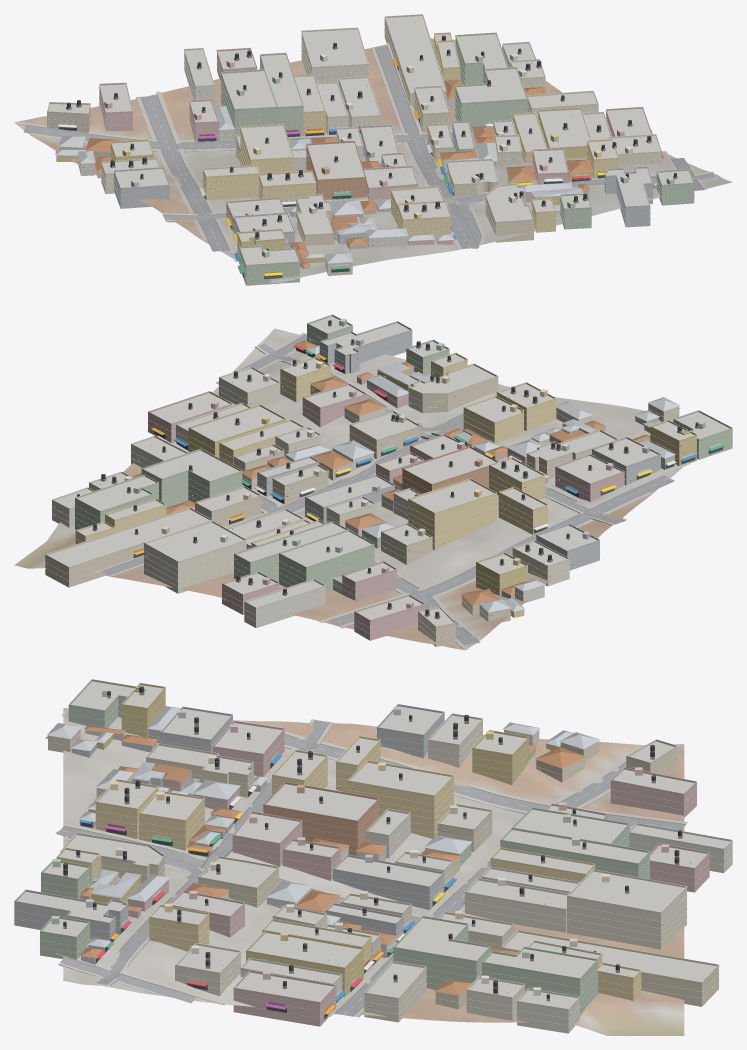
The picture shows the model from 3 angles, top to bottom: view 1: azimuth 30°, elevation 25°; view 2: azimuth 150°, elevation 25°; view 3: azimuth 270°, elevation 25°; orthographic projection. The views are drawn at different scales.
Visible parts, largest first — view 1: Buildings-col, Details, Terrain-col, Roads-col, Sidewalks-col; view 2: Buildings-col, Details, Terrain-col, Roads-col, Sidewalks-col; view 3: Buildings-col, Details, Terrain-col, Roads-col, Sidewalks-col.
Boxes of the visible parts, x1=… form: Buildings-col: x1=47, y1=16, x2=694, y2=285; Details: x1=47, y1=14, x2=694, y2=280; Terrain-col: x1=14, y1=38, x2=732, y2=284; Roads-col: x1=23, y1=46, x2=714, y2=251; Sidewalks-col: x1=18, y1=42, x2=715, y2=283; Buildings-col: x1=45, y1=316, x2=732, y2=646; Details: x1=45, y1=314, x2=732, y2=640; Terrain-col: x1=14, y1=328, x2=682, y2=650; Roads-col: x1=101, y1=334, x2=674, y2=645; Sidewalks-col: x1=93, y1=332, x2=689, y2=648; Buildings-col: x1=14, y1=681, x2=732, y2=1033; Details: x1=14, y1=679, x2=732, y2=1025; Terrain-col: x1=63, y1=708, x2=684, y2=1035; Roads-col: x1=55, y1=720, x2=685, y2=1016; Sidewalks-col: x1=55, y1=708, x2=687, y2=1017.
Bounding box in the file's own units: 278 × 42.95 × 296.
